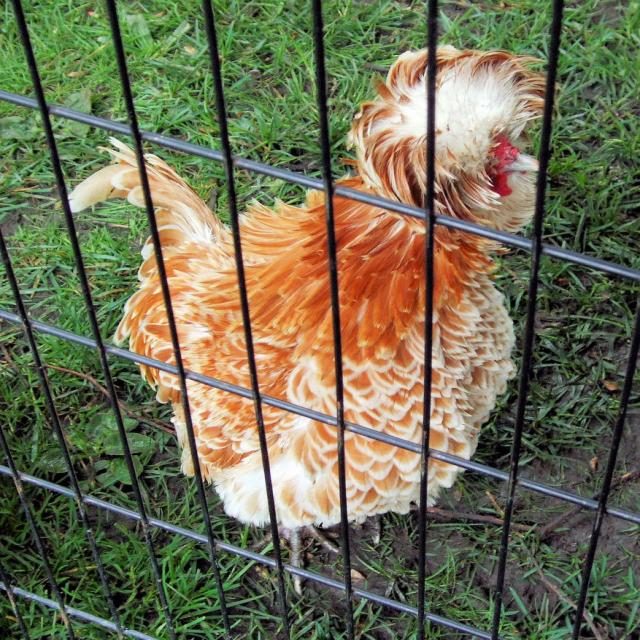Chicken: (115, 35, 535, 530)
